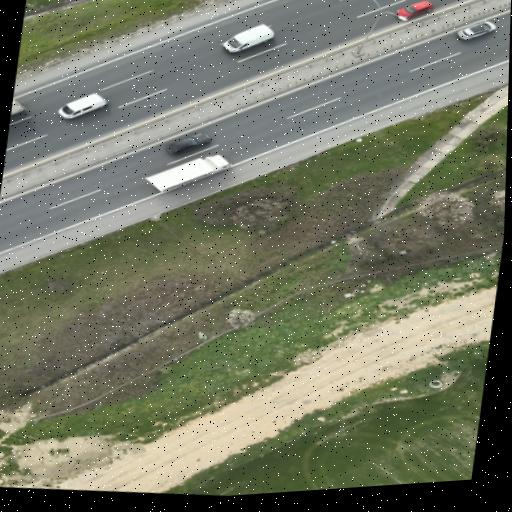car: (222, 25, 273, 52), (59, 94, 106, 118), (165, 133, 209, 153), (457, 21, 495, 40), (395, 1, 432, 19)
truck: (145, 155, 230, 192), (11, 100, 24, 115)
